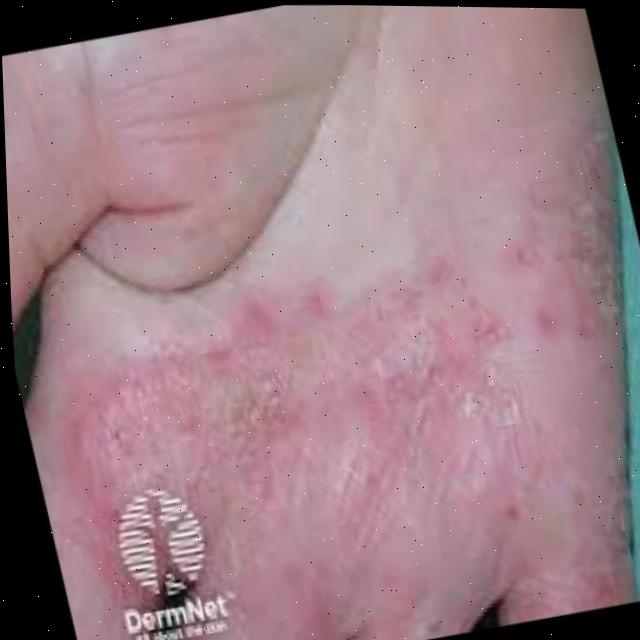Eczema: (89, 230, 593, 597)
